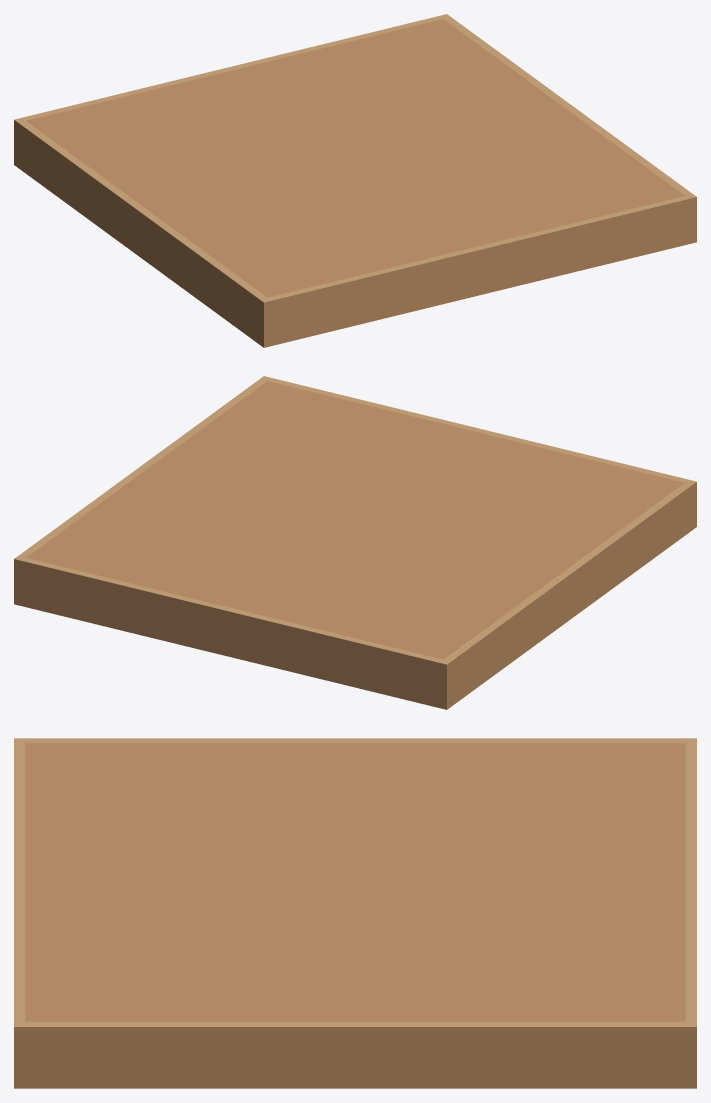
File: ConcrateSlabs_E_2_1.fbx
3 views of the same model, one above another, from view 1: azimuth 30°, elevation 25°; view 2: azimuth 150°, elevation 25°; view 3: azimuth 270°, elevation 25° (orthographic). The views are drawn at different scales.
Visible parts, largest first — view 1: ConcrateSlabs_E_2_1; view 2: ConcrateSlabs_E_2_1; view 3: ConcrateSlabs_E_2_1.
Part boxes in pixels (x1,y1,x2,y2): ConcrateSlabs_E_2_1: (14, 14, 696, 347); ConcrateSlabs_E_2_1: (14, 376, 696, 709); ConcrateSlabs_E_2_1: (14, 738, 696, 1088).
Bounding box in the file's own units: 400 × 40 × 400.
